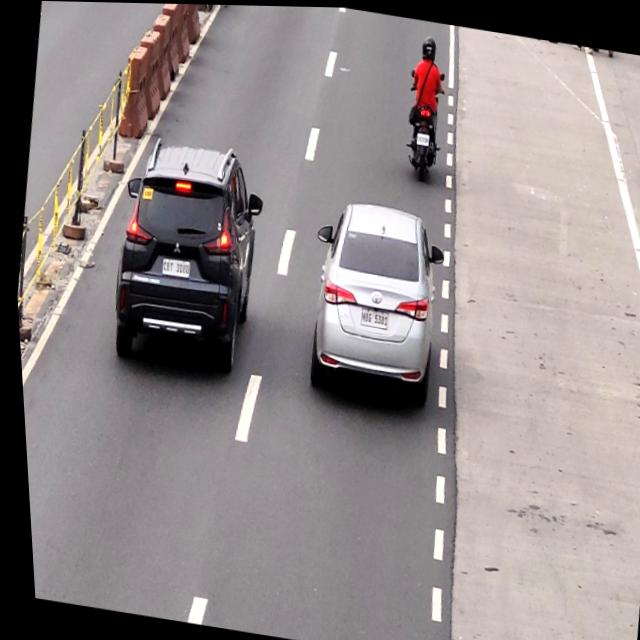Car: (100, 137, 267, 376), (289, 194, 453, 407)
License-Plate: (154, 252, 190, 279), (354, 305, 388, 331), (411, 130, 430, 146)
Motorcycle: (394, 35, 455, 182)
